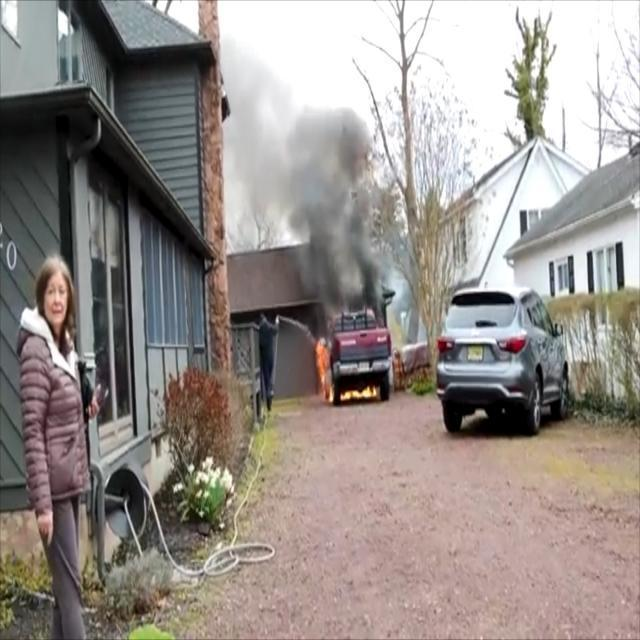fire: (316, 329, 335, 399), (337, 384, 389, 404)
